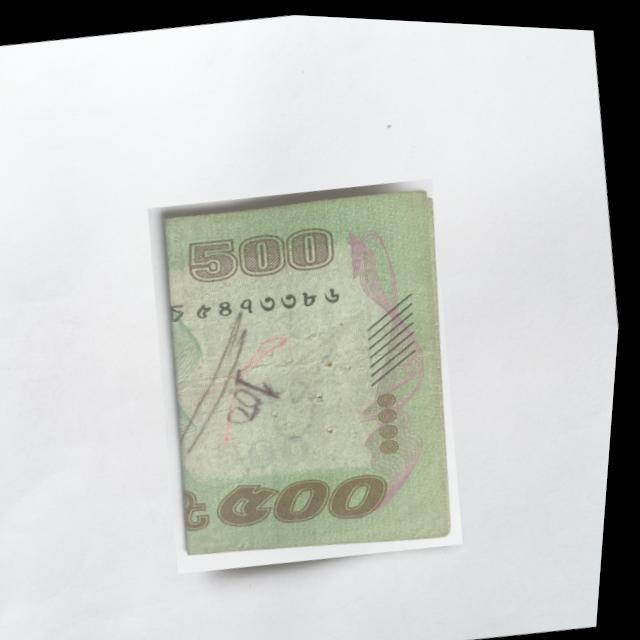Taka: (130, 162, 492, 583)
